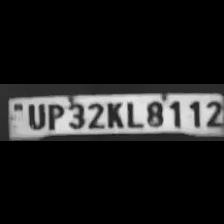1: (166, 98, 184, 128), (184, 98, 202, 128)
2: (84, 98, 104, 128), (202, 98, 222, 128)
3: (64, 100, 84, 128)
8: (142, 98, 166, 127)
K: (104, 98, 124, 128)
L: (124, 98, 142, 127)
P: (44, 100, 64, 128)
U: (24, 100, 46, 127)
